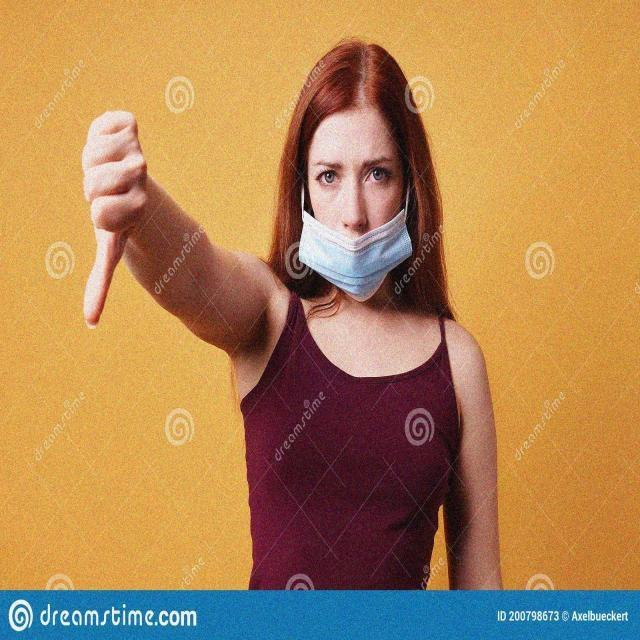hairnet: (287, 118, 414, 295)
